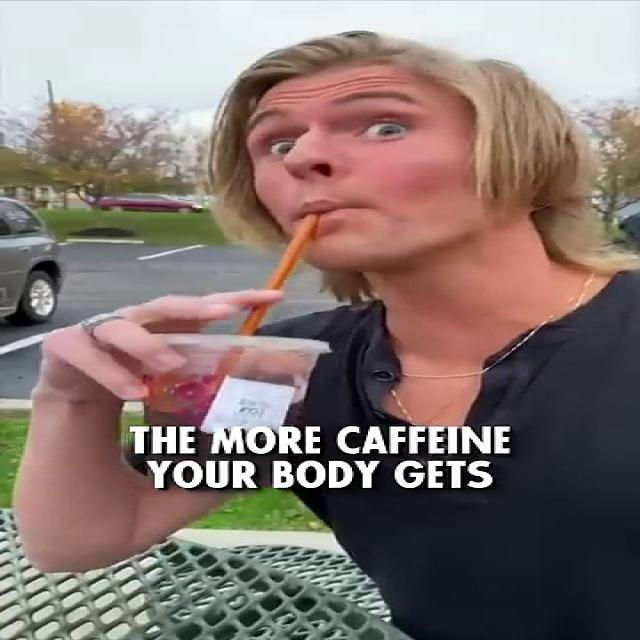Cup: (148, 210, 323, 480)
Hand: (37, 274, 282, 404)
Mouth: (278, 193, 384, 227)
